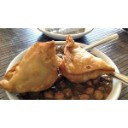samosa: (5, 40, 56, 91), (63, 35, 115, 79)
